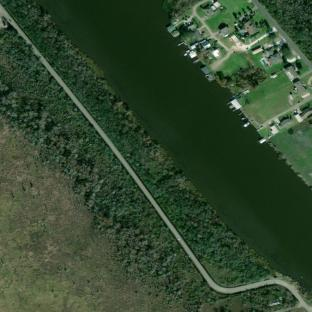Floresta: (3, 0, 270, 284), (0, 58, 217, 312), (259, 0, 312, 62), (241, 283, 298, 312), (228, 65, 267, 93), (0, 32, 34, 61)
